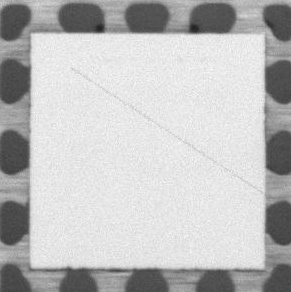DIE_CRACK: (70, 67, 265, 196)
